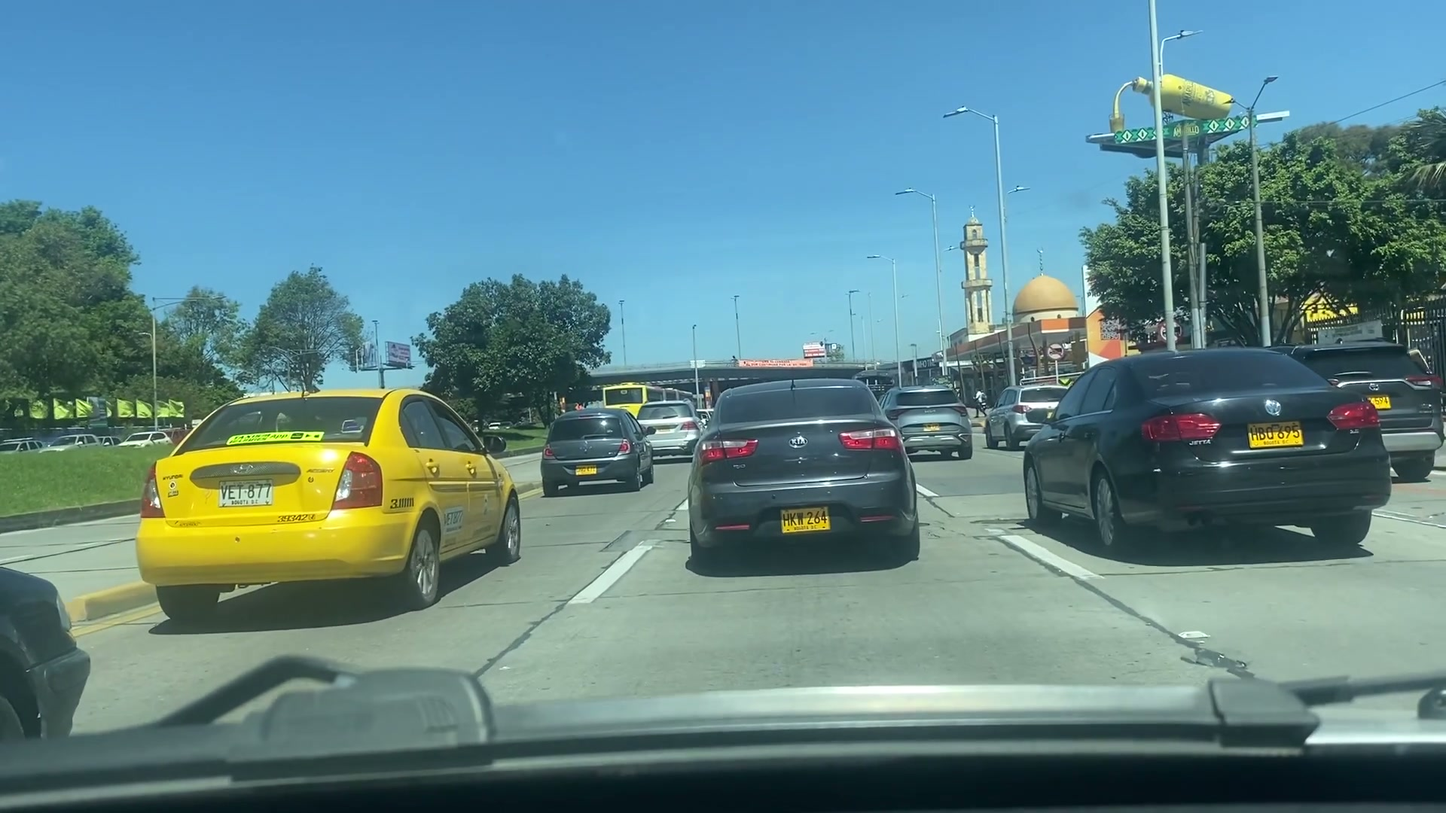car: (136, 391, 521, 612), (1022, 353, 1398, 559), (683, 377, 920, 556), (1270, 343, 1443, 473), (0, 541, 89, 740), (539, 412, 657, 487), (881, 386, 981, 455), (984, 384, 1068, 446), (631, 402, 699, 449)
